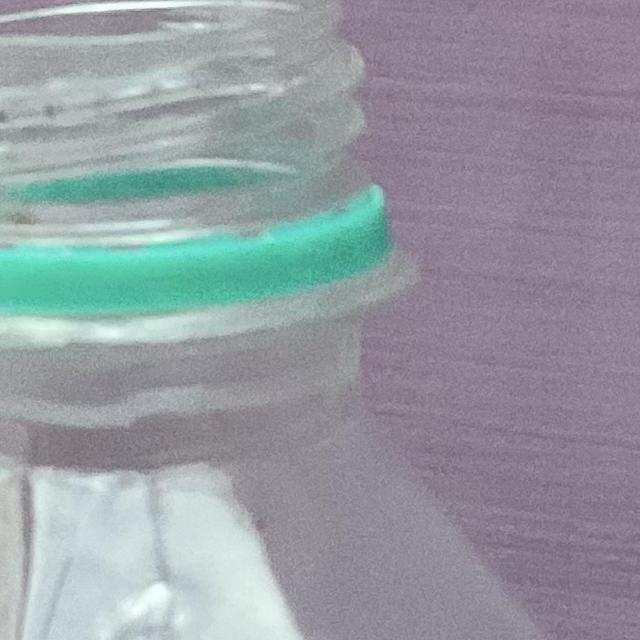open-cap: (0, 0, 415, 335)
